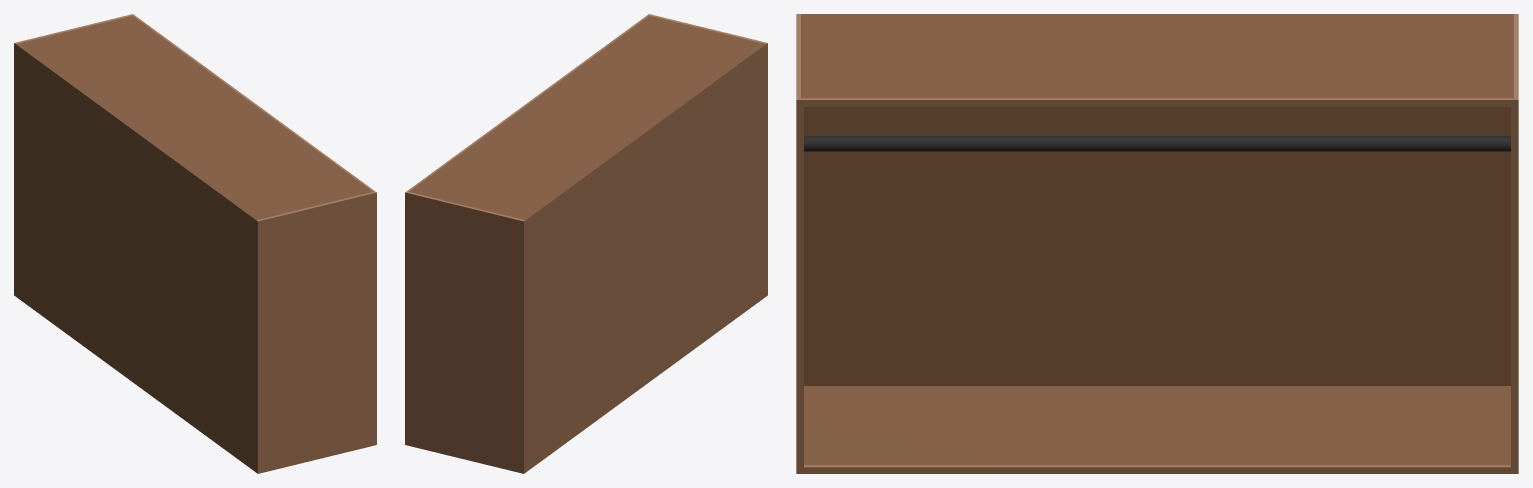
The model's file is Armario.FBX.
The picture shows the model from 3 angles, left to right: view 1: azimuth 30°, elevation 25°; view 2: azimuth 150°, elevation 25°; view 3: azimuth 270°, elevation 25°; orthographic projection. The views are drawn at different scales.
Parts seen in each view (by area): view 1: Bliblioteca001; view 2: Bliblioteca001; view 3: Bliblioteca001.
Boxes of the visible parts, x1,y1,x2,y2 form: Bliblioteca001: [14, 14, 376, 473]; Bliblioteca001: [405, 14, 767, 473]; Bliblioteca001: [796, 14, 1518, 473].
Bounding box in the file's own units: 119 × 423 × 242.
